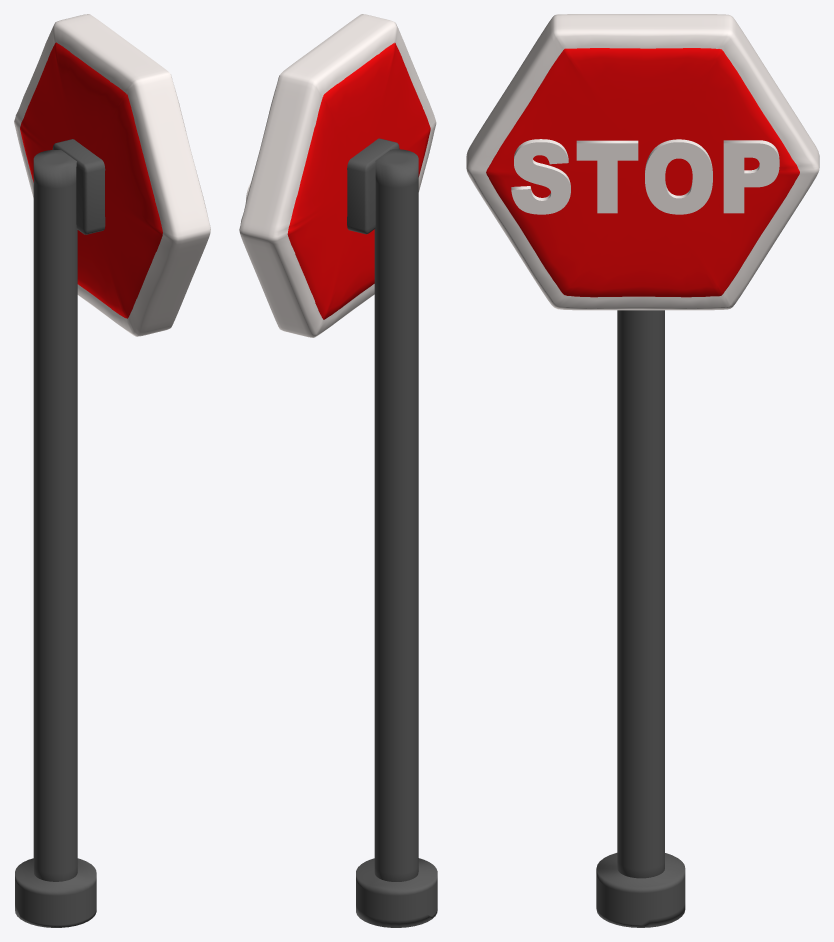
Rendered from stop.fbx.
3 renders of one model, left to right at view 1: azimuth 30°, elevation 25°; view 2: azimuth 150°, elevation 25°; view 3: azimuth 270°, elevation 25°, orthographic. The views are drawn at different scales.
Visible parts, largest first — view 1: Stop; view 2: Stop; view 3: Stop.
Part boxes in pixels (x1,y1,x2,y2): Stop: [14, 14, 210, 927]; Stop: [239, 14, 437, 927]; Stop: [466, 14, 819, 927].
Bounding box in the file's own units: 281 × 1870 × 652.
